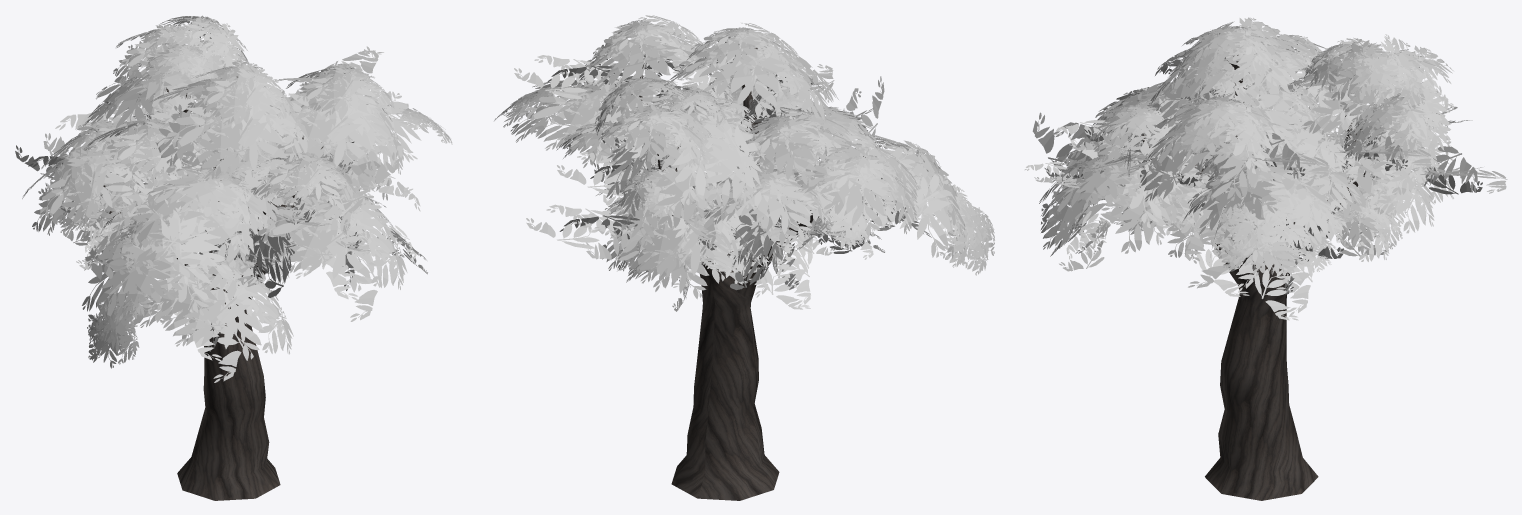
File: tree_01.fbx
3 renders of one model, left to right at view 1: azimuth 30°, elevation 25°; view 2: azimuth 150°, elevation 25°; view 3: azimuth 270°, elevation 25°, orthographic. The views are drawn at different scales.
Parts seen in each view (by area): view 1: Leaves, Tree_01.002; view 2: Leaves, Tree_01.002; view 3: Leaves, Tree_01.002.
Boxes of the visible parts, left/top/right/bottom form: Leaves: left=15, top=15, right=452, bottom=382; Tree_01.002: left=102, top=76, right=322, bottom=500; Leaves: left=494, top=15, right=994, bottom=311; Tree_01.002: left=639, top=48, right=865, bottom=500; Leaves: left=1024, top=17, right=1507, bottom=320; Tree_01.002: left=1142, top=55, right=1365, bottom=500.
Bounding box in the file's own units: 4794 × 4658 × 4553.
